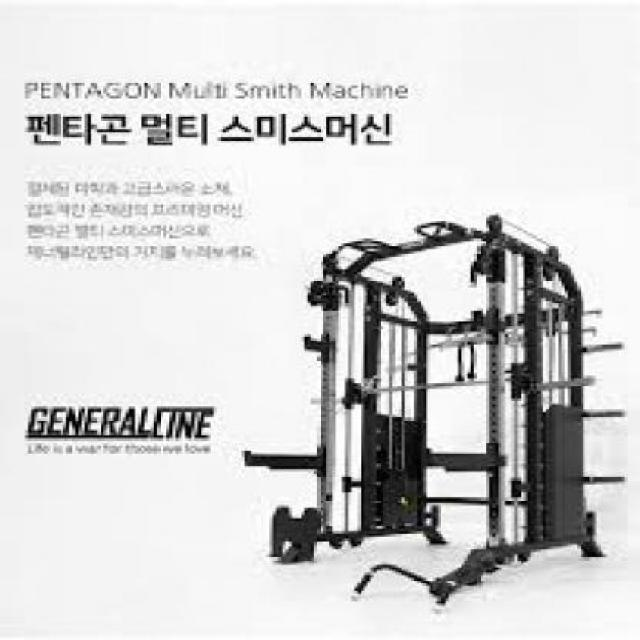smith machine: (248, 212, 629, 605)
